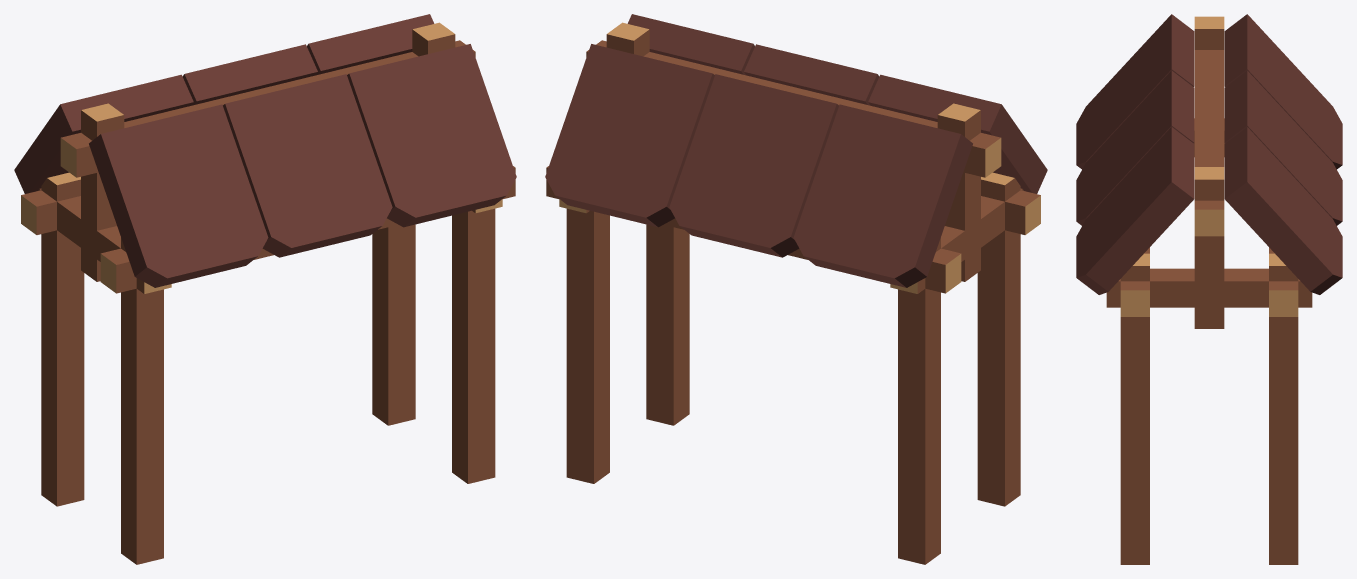
The model's file is Awning.fbx.
3 views of the same model, side by side, from view 1: azimuth 30°, elevation 25°; view 2: azimuth 150°, elevation 25°; view 3: azimuth 270°, elevation 25° (orthographic). The views are drawn at different scales.
Parts seen in each view (by area): view 1: Awning; view 2: Awning; view 3: Awning.
Part boxes in pixels (x1,y1,x2,y2): Awning: (14,14,516,564); Awning: (545,14,1047,564); Awning: (1076,14,1342,564).
Size of the model in its own units: 1.45 by 1.43 by 0.898.
